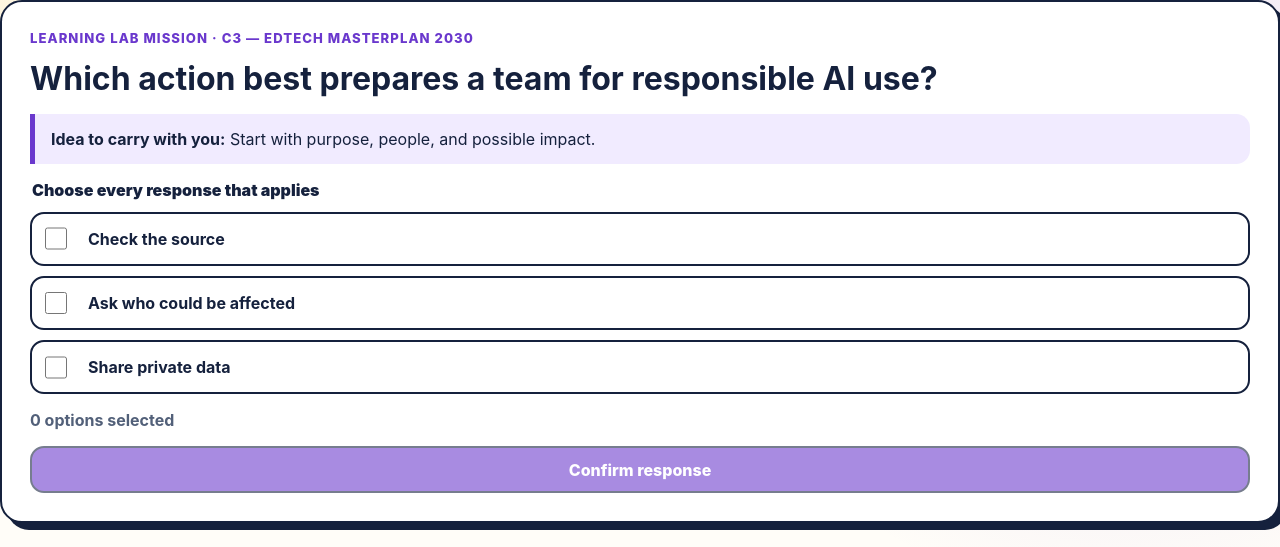
it: mission interactions › supports multi-select with native checkboxes and selected-state text
Click the checkbox labelled "Check the source". click: coordinates (56, 239)
box: 45,227 -> 67,250
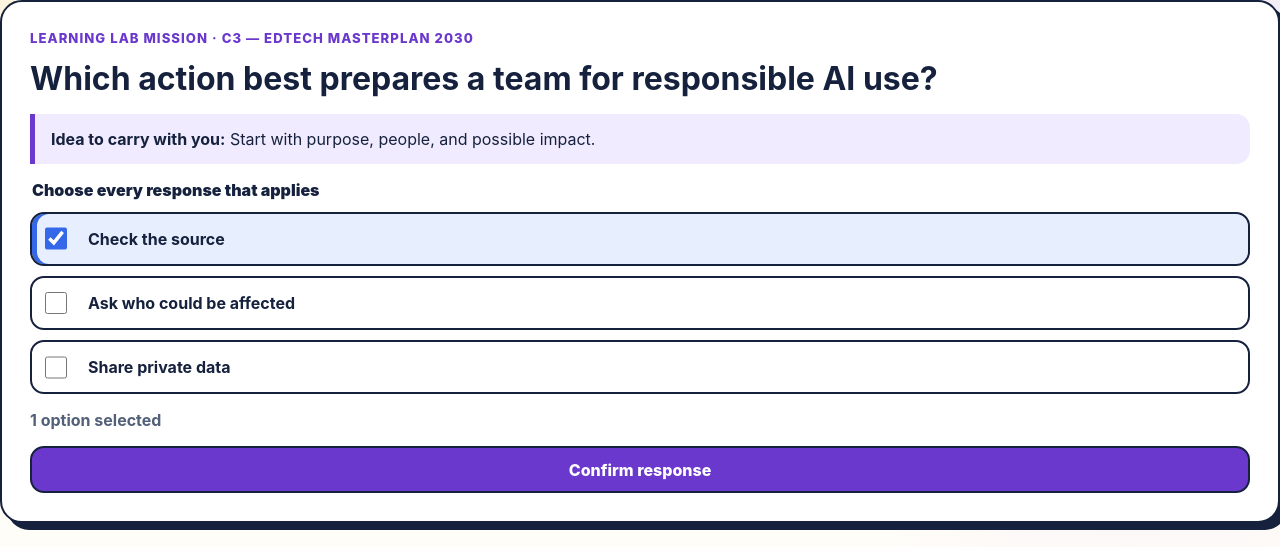
Click the checkbox labelled "Ask who could be affected". click: coordinates (56, 303)
box: 45,292 -> 67,314
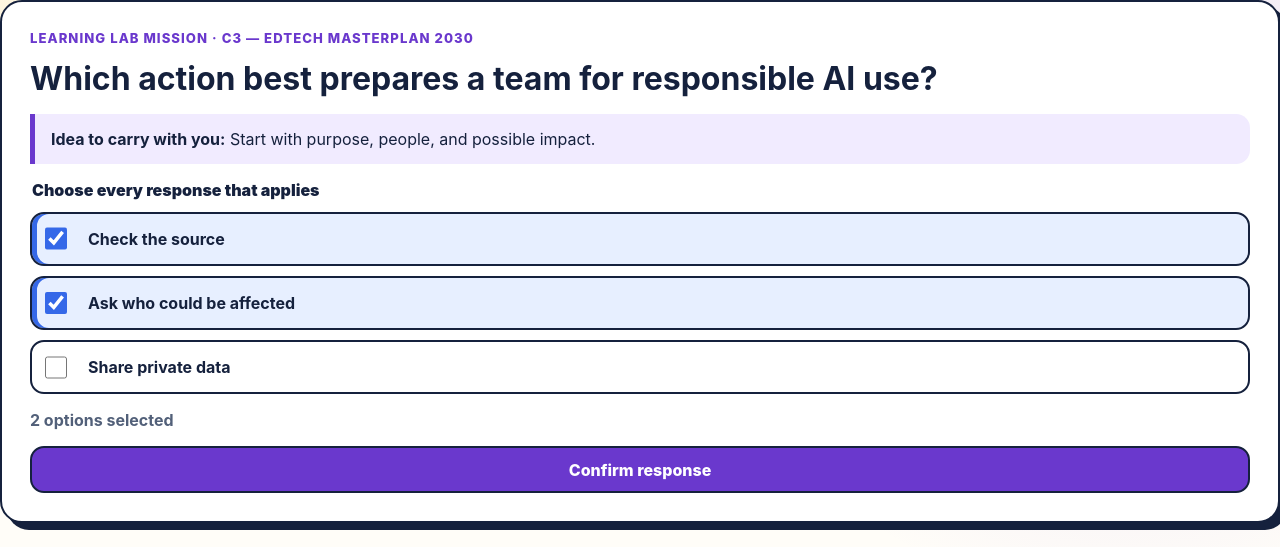
Expected: the text "2 options selected" is shown, 30,410 -> 174,430
